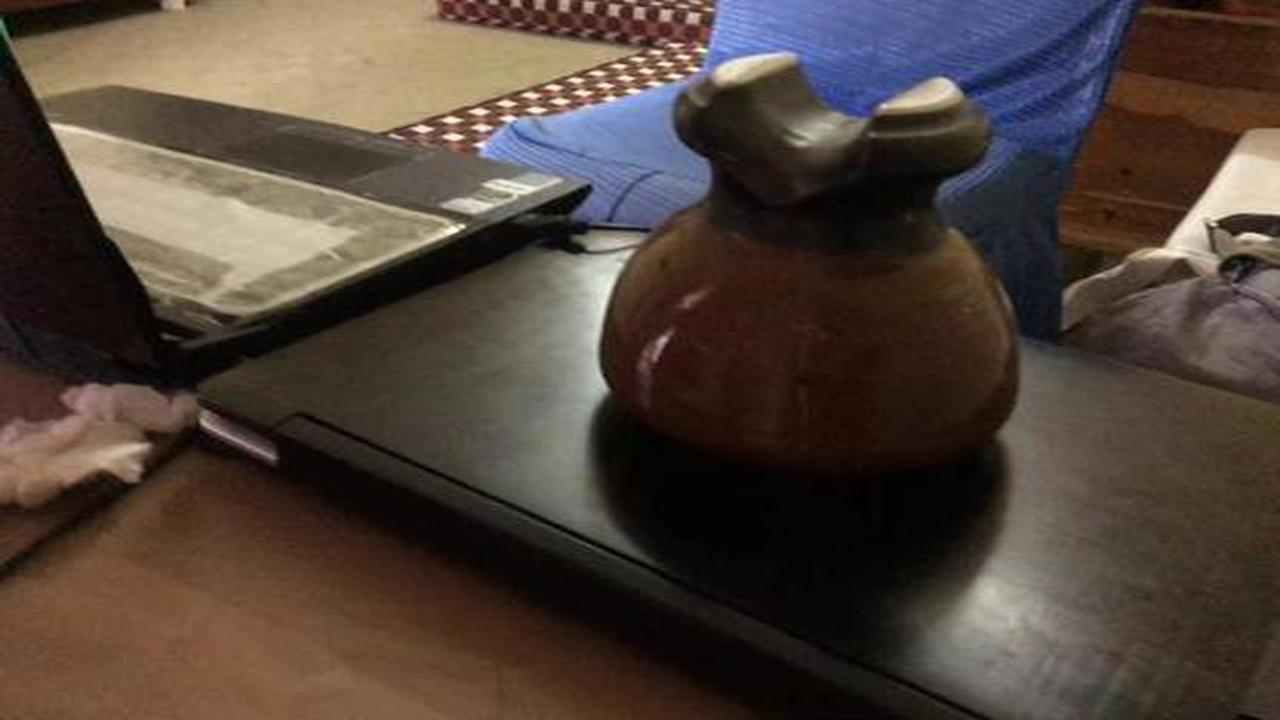insulator_pin: (591, 33, 1047, 485)
